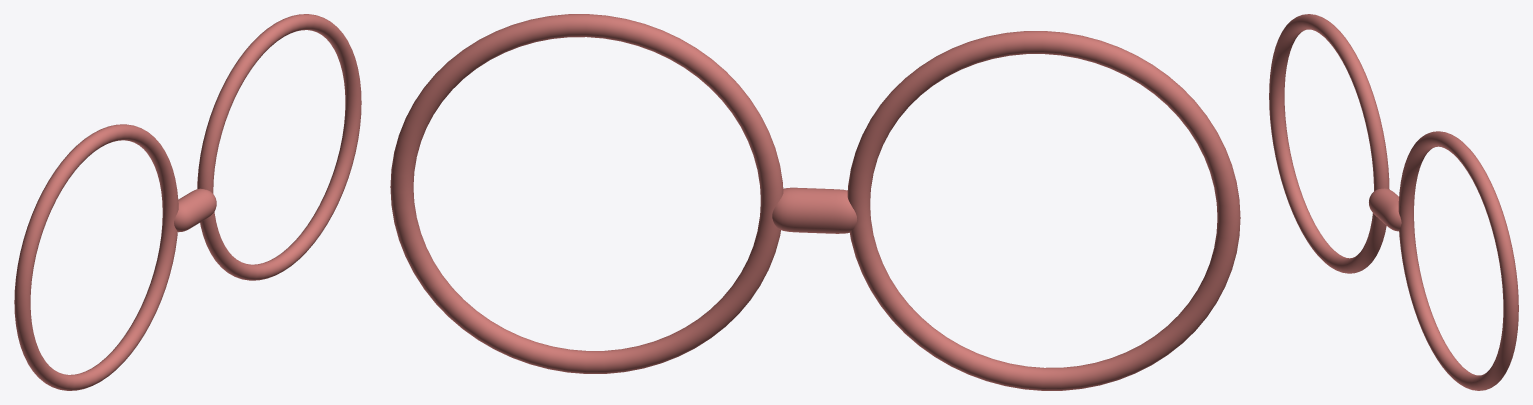
3 renders of one model, left to right at view 1: azimuth 30°, elevation 25°; view 2: azimuth 150°, elevation 25°; view 3: azimuth 270°, elevation 25°, orthographic. The views are drawn at different scales.
Visible parts, largest first — view 1: Capsule; view 2: Capsule; view 3: Capsule.
Boxes of the visible parts, <box> form: Capsule: <box>14,14,361,390</box>; Capsule: <box>390,14,1240,390</box>; Capsule: <box>1269,14,1518,390</box>.
Bounding box in the file's own units: 102 × 48.97 × 51.7.
